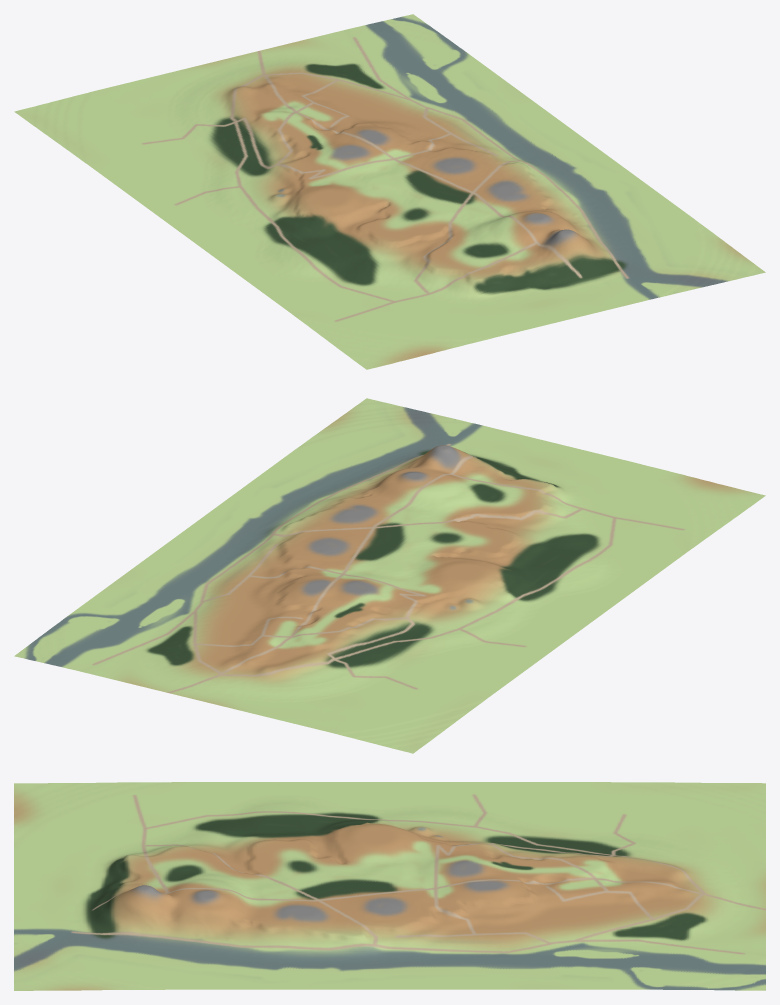
The model's file is kuyper_1870.gltf.
3 renders of one model, top to bottom at view 1: azimuth 30°, elevation 25°; view 2: azimuth 150°, elevation 25°; view 3: azimuth 270°, elevation 25°, orthographic. The views are drawn at different scales.
Parts seen in each view (by area): view 1: Kuyper_St_Peter_DEM_modified; view 2: Kuyper_St_Peter_DEM_modified; view 3: Kuyper_St_Peter_DEM_modified.
Boxes of the visible parts, left/top/right/bottom form: Kuyper_St_Peter_DEM_modified: left=14, top=14, right=765, bottom=369; Kuyper_St_Peter_DEM_modified: left=14, top=398, right=765, bottom=753; Kuyper_St_Peter_DEM_modified: left=14, top=782, right=765, bottom=990.
Bounding box in the file's own units: 2513 × 176 × 3846.
Materials: 1 (1 with a texture image).
